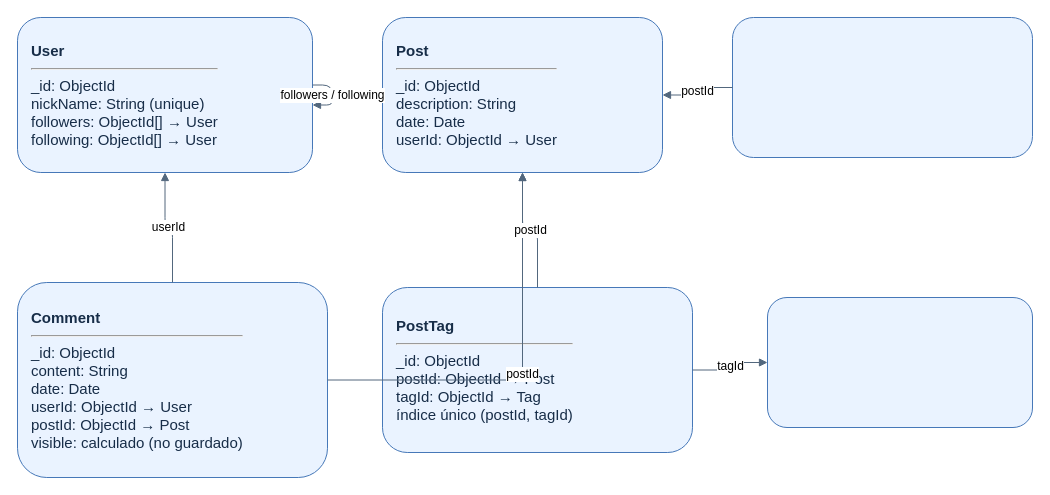
Some shapes in this 1050 by 495 pixel diagram are drawn without their labels. Here are the shapes that lost their labels. From the top down, the centre of each, then its label:
[882,87]: Post_Images _id: ObjectId url: String postId: ObjectId → Post
[899,362]: Tag _id: ObjectId name: String (unique)
